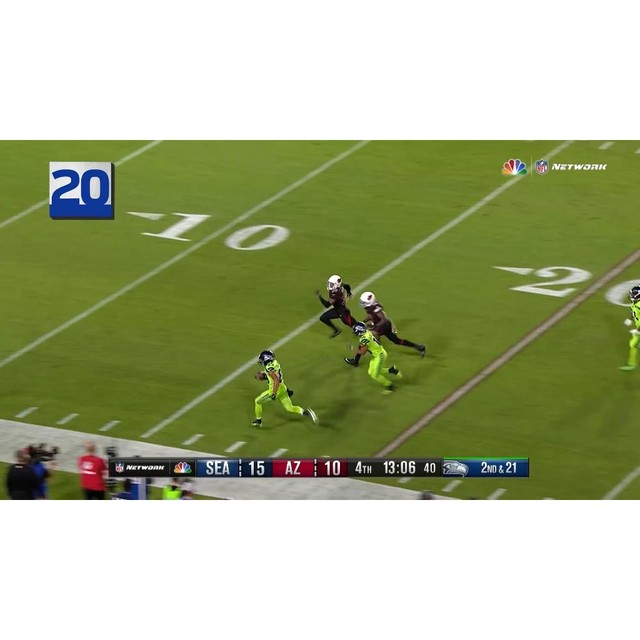american-football-player: (254, 351, 313, 430), (360, 291, 427, 359), (344, 322, 401, 395), (314, 276, 357, 338), (619, 288, 640, 372)
